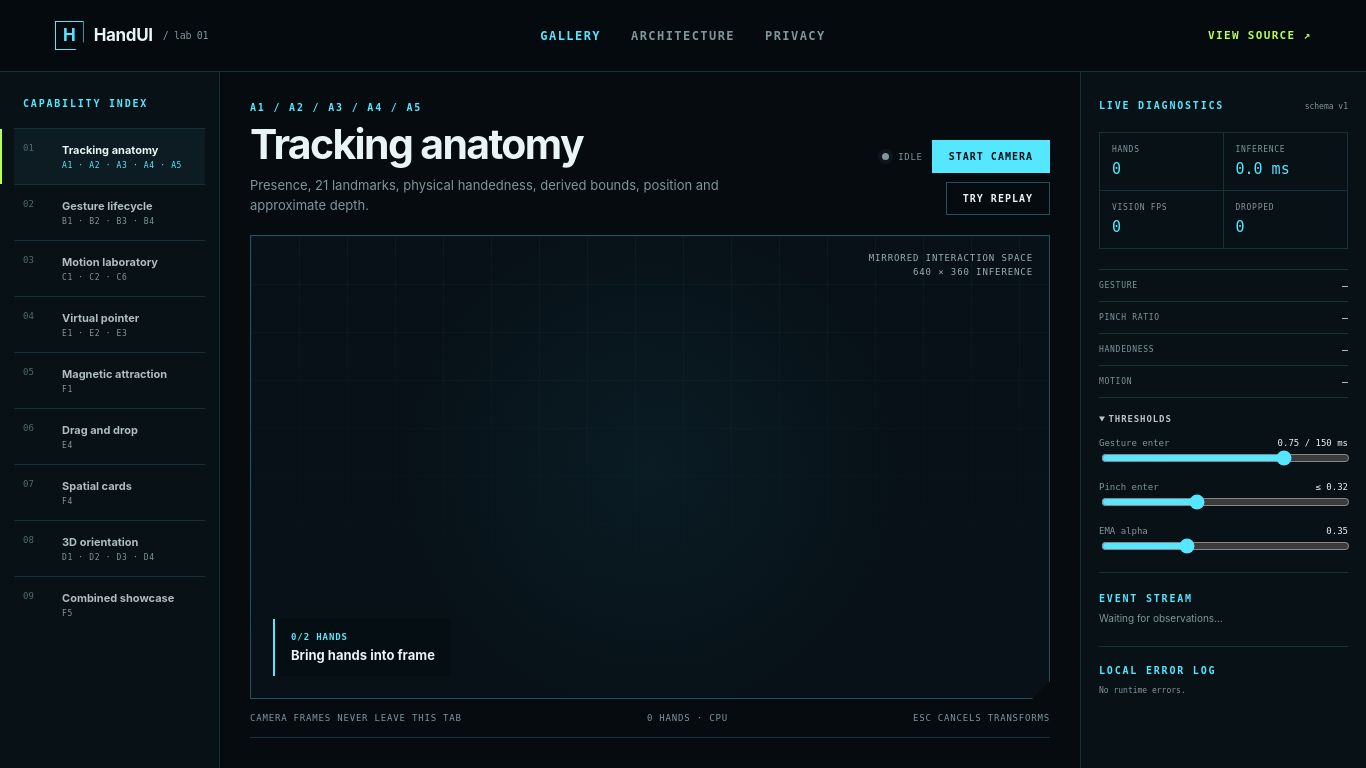
app shell › keeps the shared session alive through Strict Mode effect replay
The width and height of the screenshot is (1366, 768).
Click the button "Try replay": (998, 198) [946,182,1050,215]
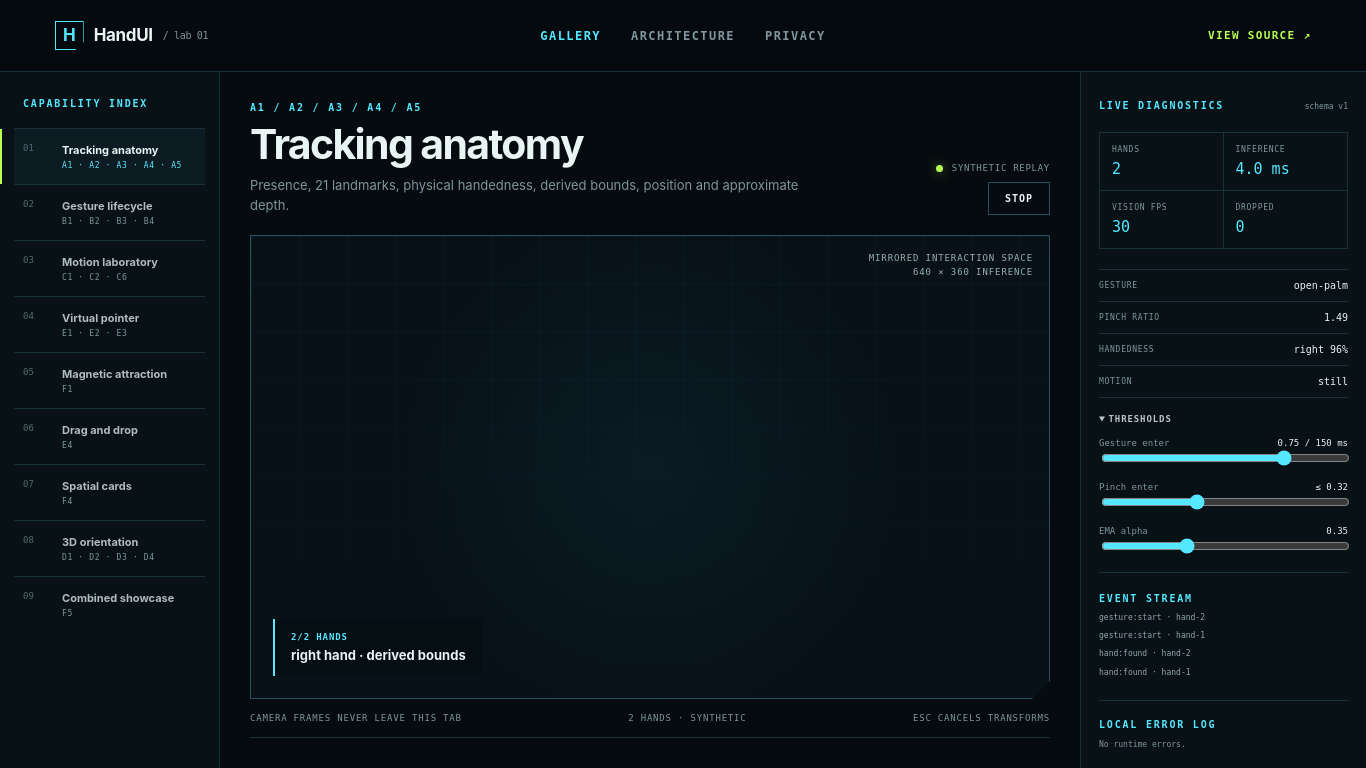
Check: the text "2 hands · synthetic" is shown, box [628,714,747,722]
